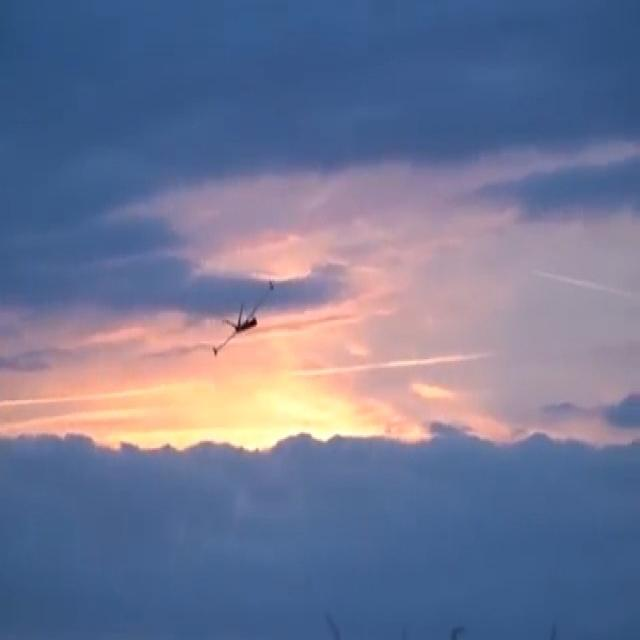drones: (202, 272, 278, 365)
